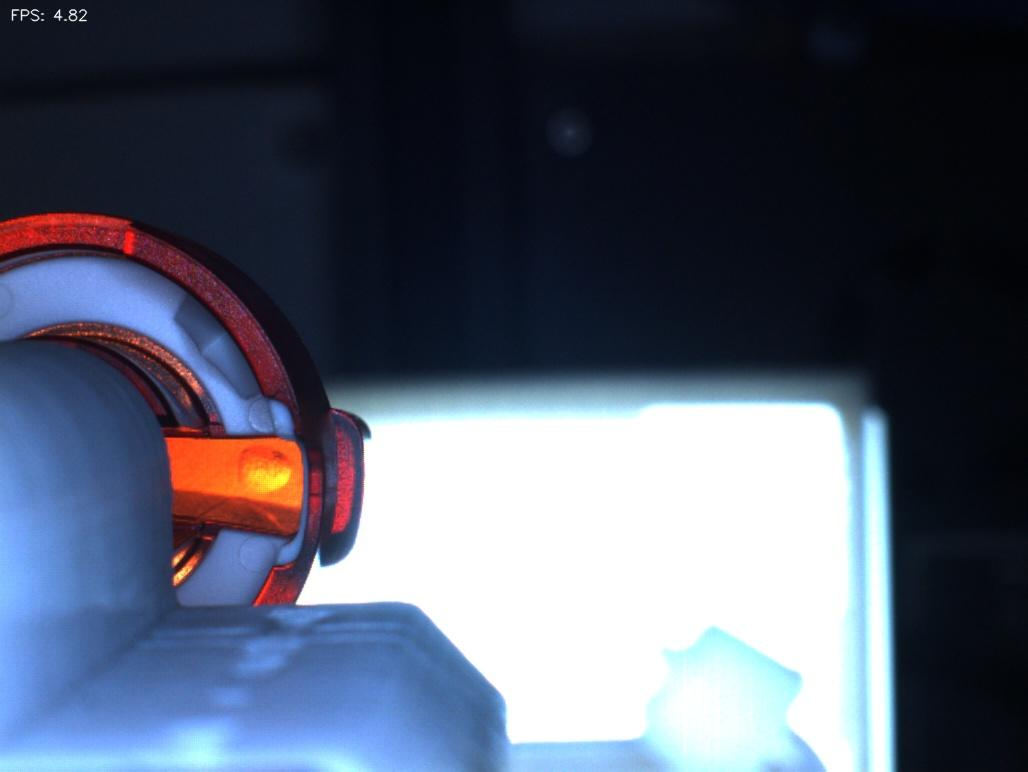Retassure: (211, 437, 298, 509)
